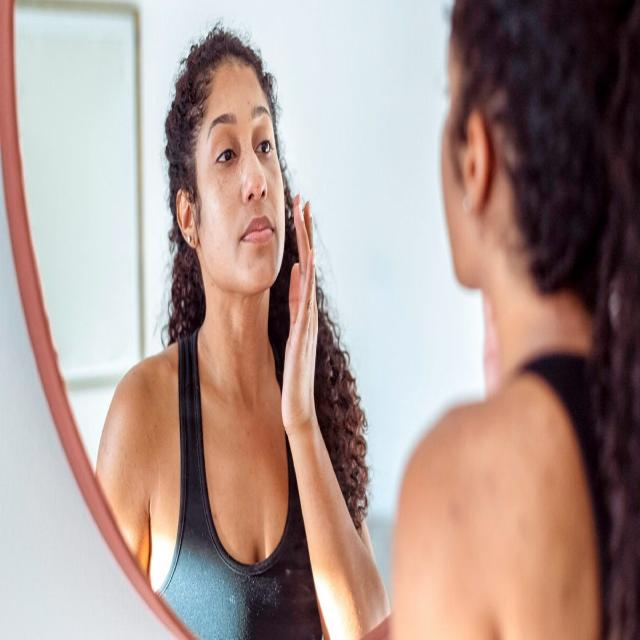adult: (93, 23, 389, 640), (389, 2, 640, 640)
